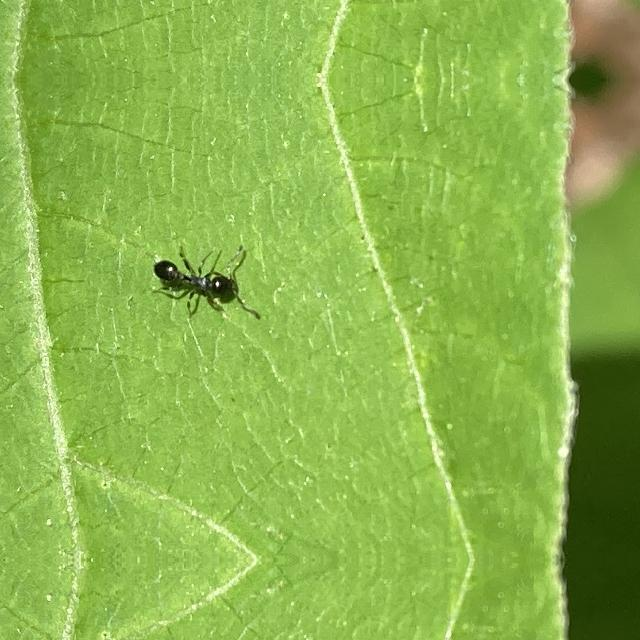Temnothorax: (156, 219, 296, 325)
